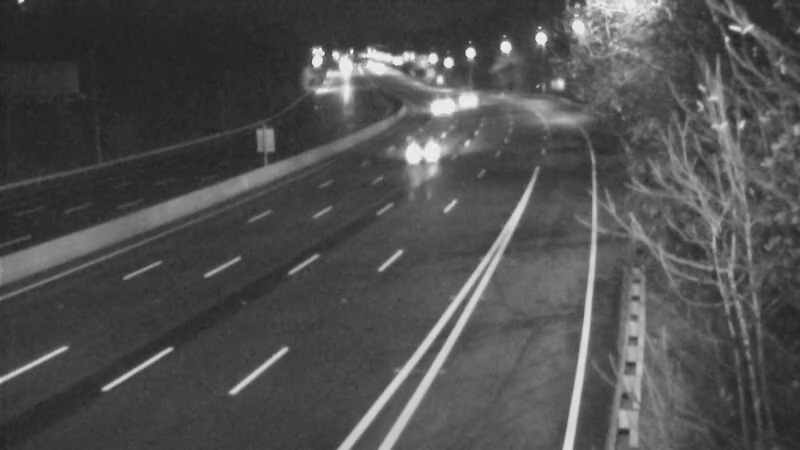vehicle: (386, 112, 466, 192), (442, 75, 492, 125), (411, 81, 461, 131)
